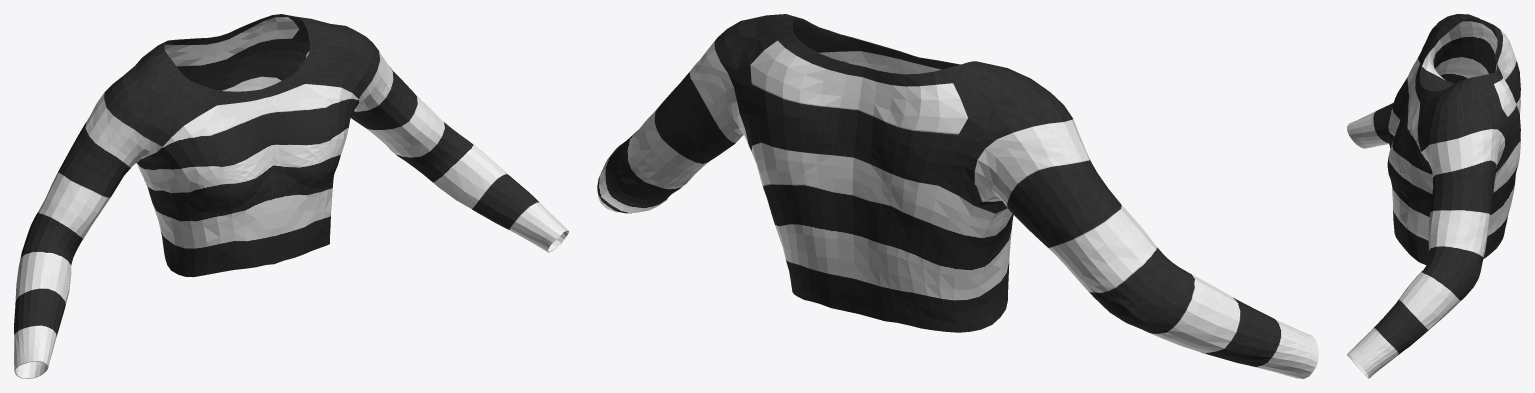
The model's file is mhw_ews_striped_shirt.glb.
The picture shows the model from 3 angles, left to right: view 1: azimuth 30°, elevation 25°; view 2: azimuth 150°, elevation 25°; view 3: azimuth 270°, elevation 25°; orthographic projection. The views are drawn at different scales.
Visible parts, largest first — view 1: mhw_ews_striped_shirt; view 2: mhw_ews_striped_shirt; view 3: mhw_ews_striped_shirt.
Part boxes in pixels (box(x1,y1,x2,y2)): mhw_ews_striped_shirt: box(14, 14, 568, 378); mhw_ews_striped_shirt: box(597, 14, 1318, 378); mhw_ews_striped_shirt: box(1347, 14, 1520, 378).
Size of the model in its own units: 1.08 by 0.4461 by 0.3272.
Materials: 1 (1 with a texture image).
